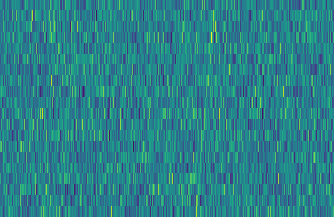signal: (191, 0, 220, 217)
